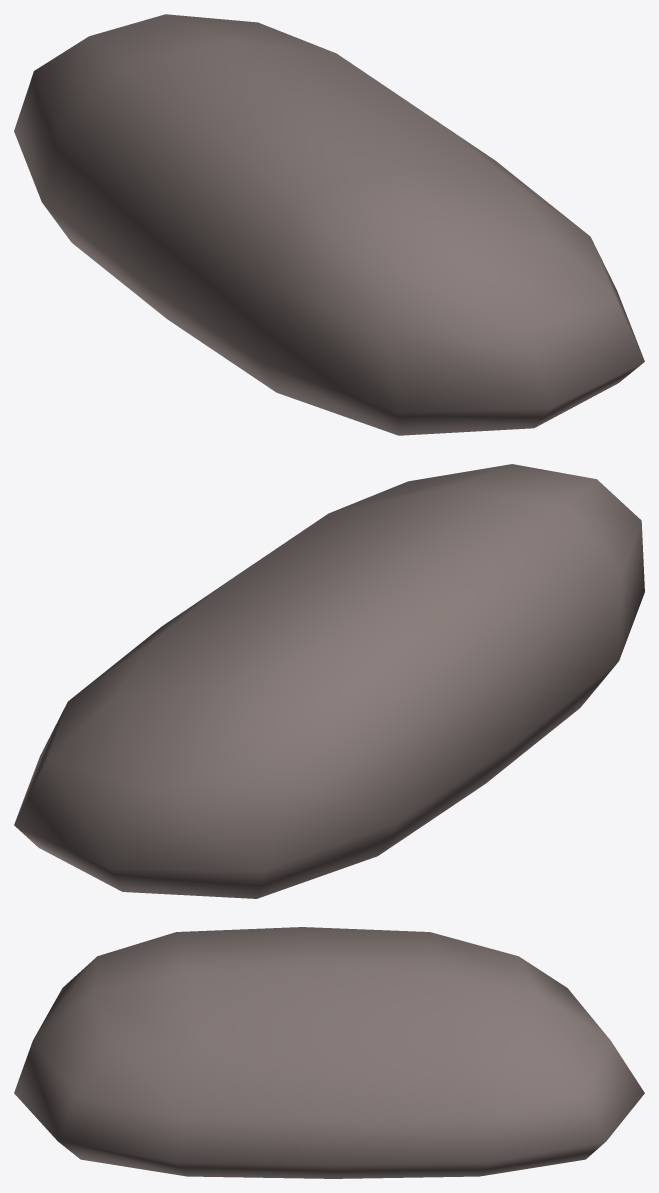
File: Stone3.fbx
The picture shows the model from 3 angles, top to bottom: view 1: azimuth 30°, elevation 25°; view 2: azimuth 150°, elevation 25°; view 3: azimuth 270°, elevation 25°; orthographic projection. The views are drawn at different scales.
Parts seen in each view (by area): view 1: Rock3; view 2: Rock3; view 3: Rock3.
Part boxes in pixels (x1,y1,x2,y2): Rock3: [14, 14, 644, 435]; Rock3: [14, 464, 644, 898]; Rock3: [14, 927, 644, 1178].
Bounding box in the file's own units: 92.47 × 50.91 × 189.
